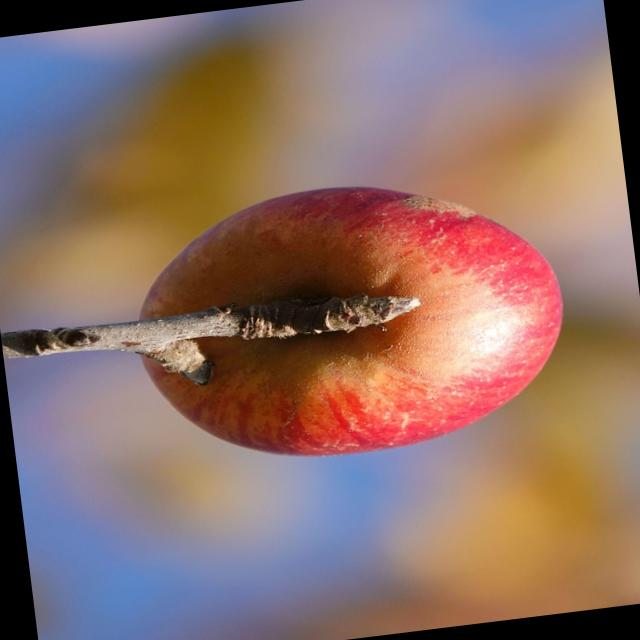apple_fruit: (121, 176, 580, 463)
